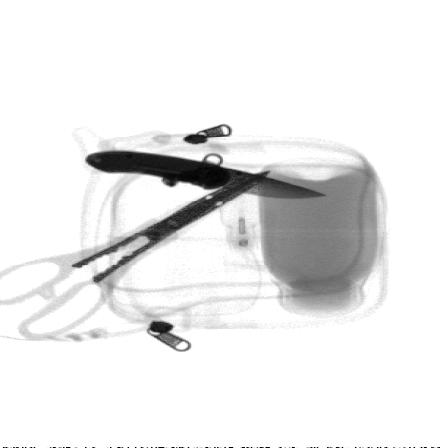Knife: (84, 149, 329, 198)
Scissors: (4, 169, 273, 340)
